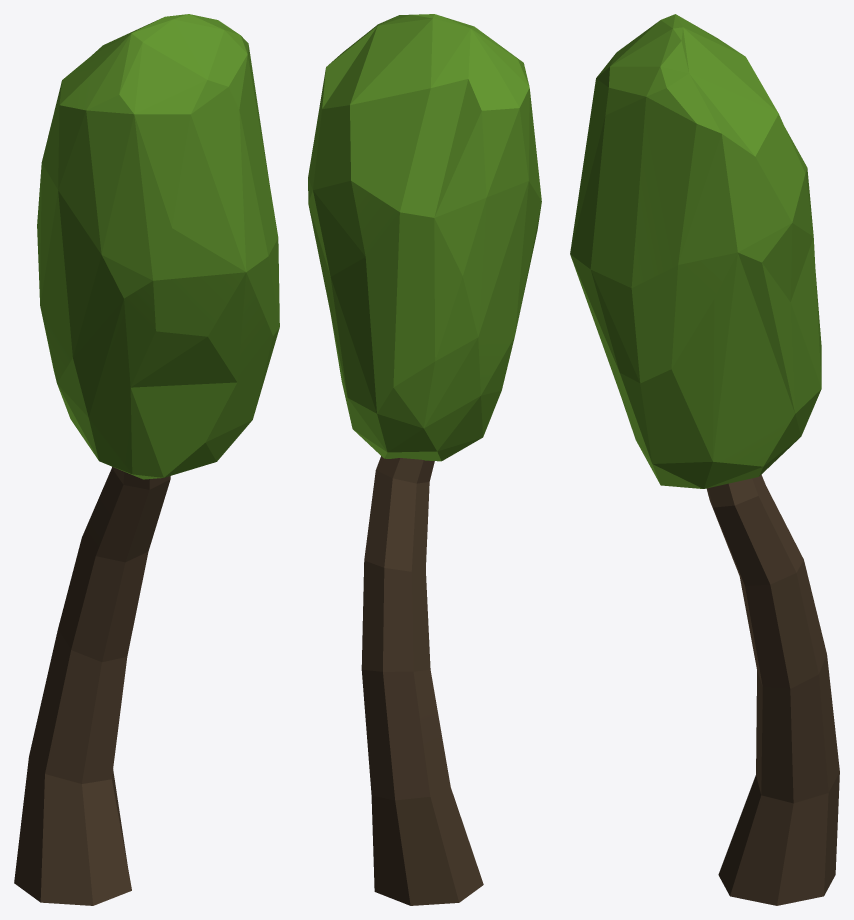
The model's file is Tree7.glb.
3 views of the same model, side by side, from view 1: azimuth 30°, elevation 25°; view 2: azimuth 150°, elevation 25°; view 3: azimuth 270°, elevation 25° (orthographic). The views are drawn at different scales.
Parts seen in each view (by area): view 1: Tree_7; view 2: Tree_7; view 3: Tree_7.
Boxes of the visible parts, x1=… form: Tree_7: x1=14, y1=14, x2=279, y2=905; Tree_7: x1=308, y1=14, x2=541, y2=905; Tree_7: x1=570, y1=14, x2=839, y2=905.
Size of the model in its own units: 0.8068 by 3.23 by 0.905.
1 material, 1 textured.
